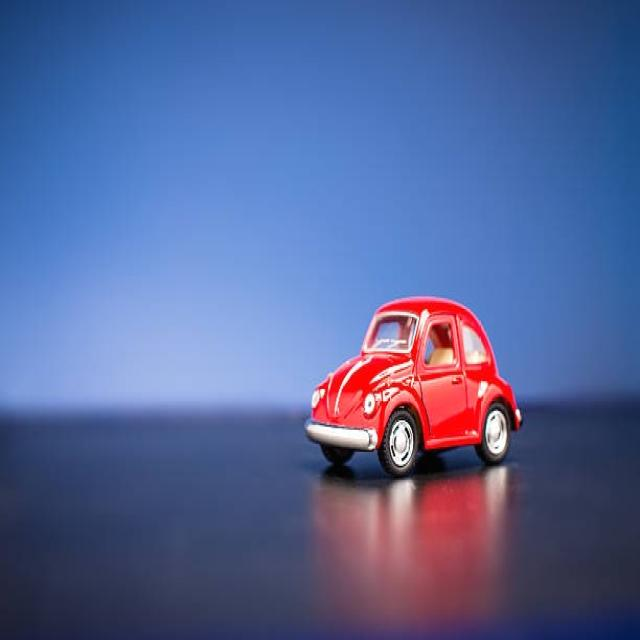car: (313, 297, 525, 486)
